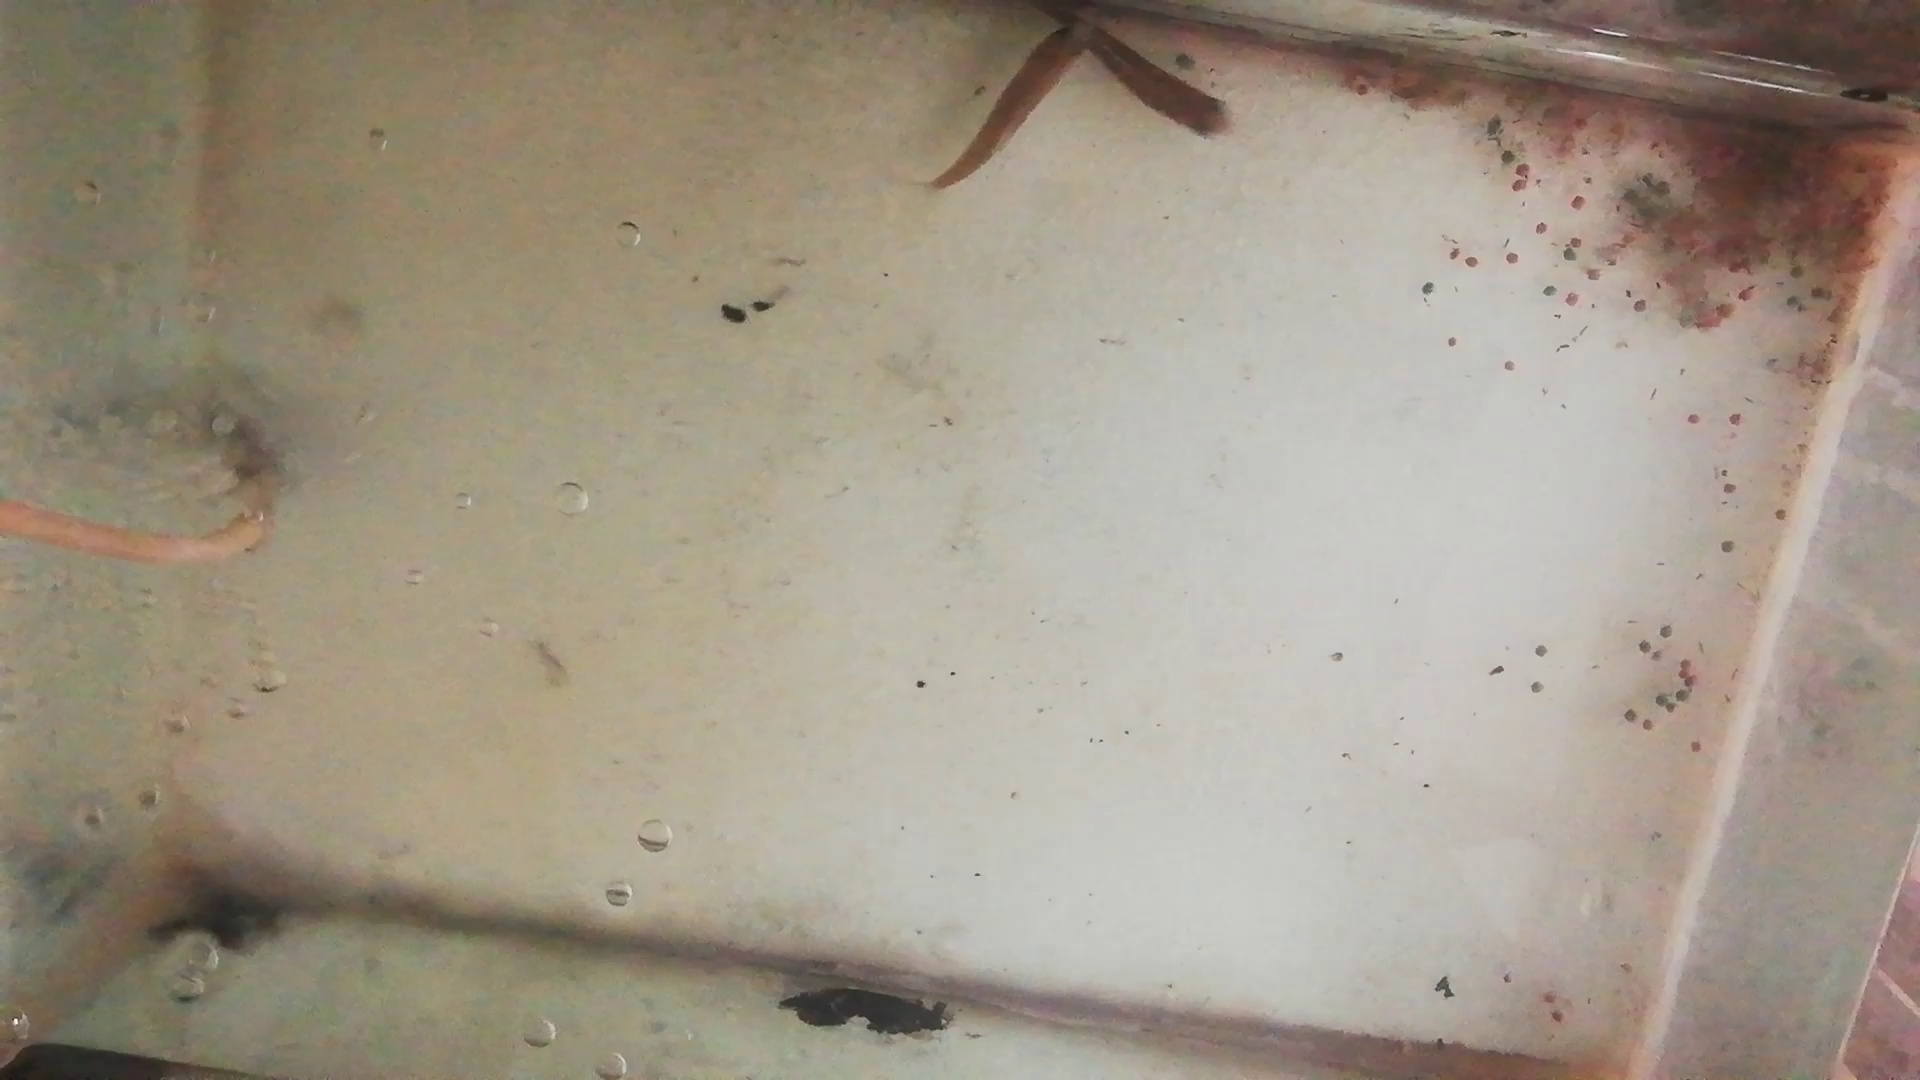fish: (931, 7, 1102, 191), (1039, 1, 1236, 140)
